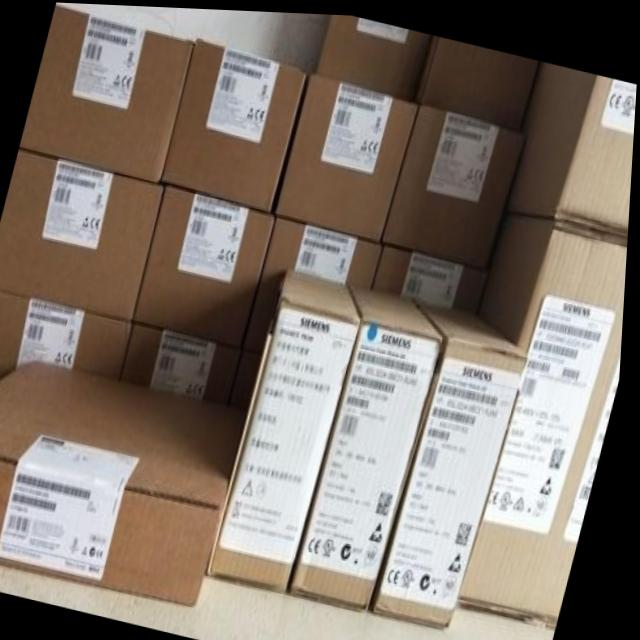box: (464, 209, 630, 624), (0, 361, 252, 604), (378, 295, 533, 627), (213, 269, 366, 588), (295, 285, 445, 605), (21, 3, 195, 184), (0, 151, 166, 325), (162, 36, 310, 212), (277, 69, 418, 242), (385, 96, 524, 262), (135, 185, 279, 344), (510, 59, 637, 231), (247, 213, 385, 349), (0, 289, 135, 383), (124, 323, 265, 411), (416, 32, 540, 122), (316, 12, 434, 100), (374, 242, 488, 310)
